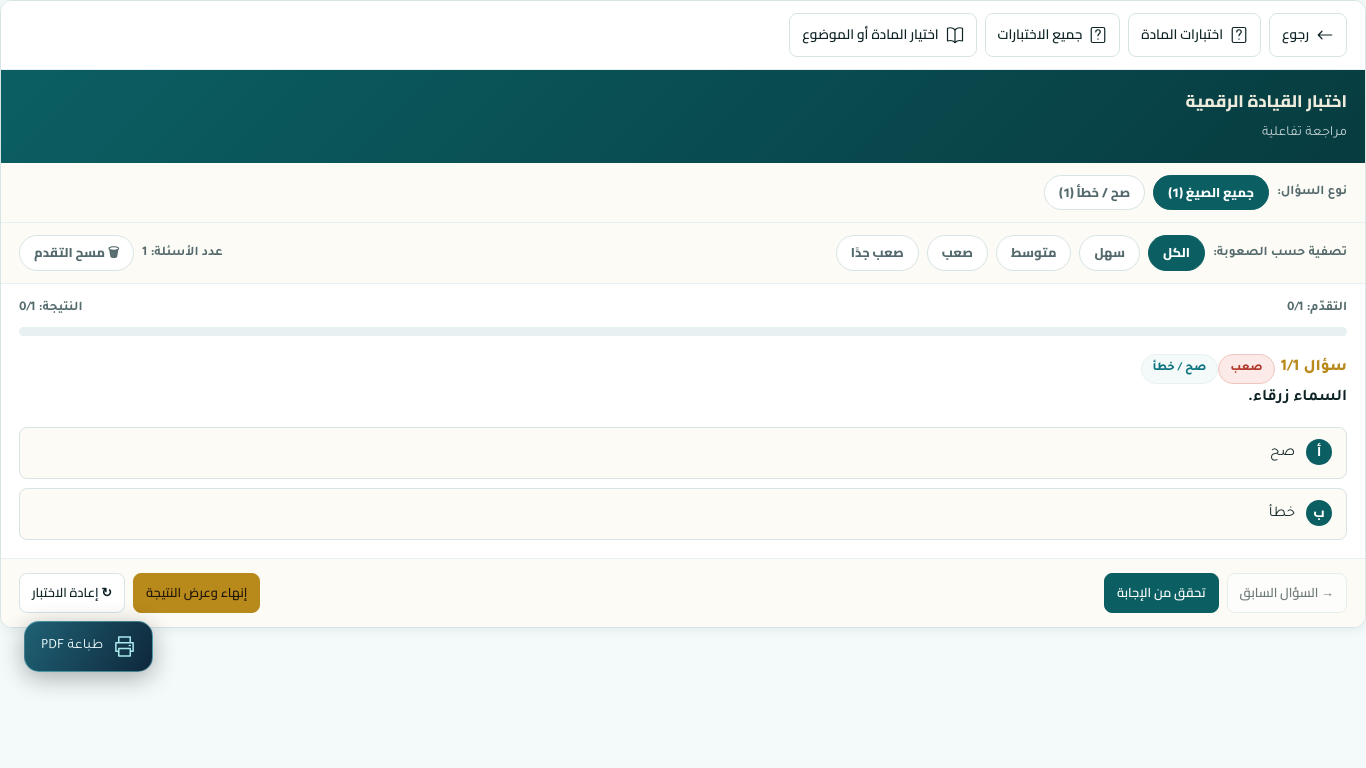
Test: Finquiz interaction › true/false uses the same explicit check and authoritative feedback
This screenshot has width=1366, height=768.
Click the button "أ صح": (1319, 452) 19,427 -> 1347,479
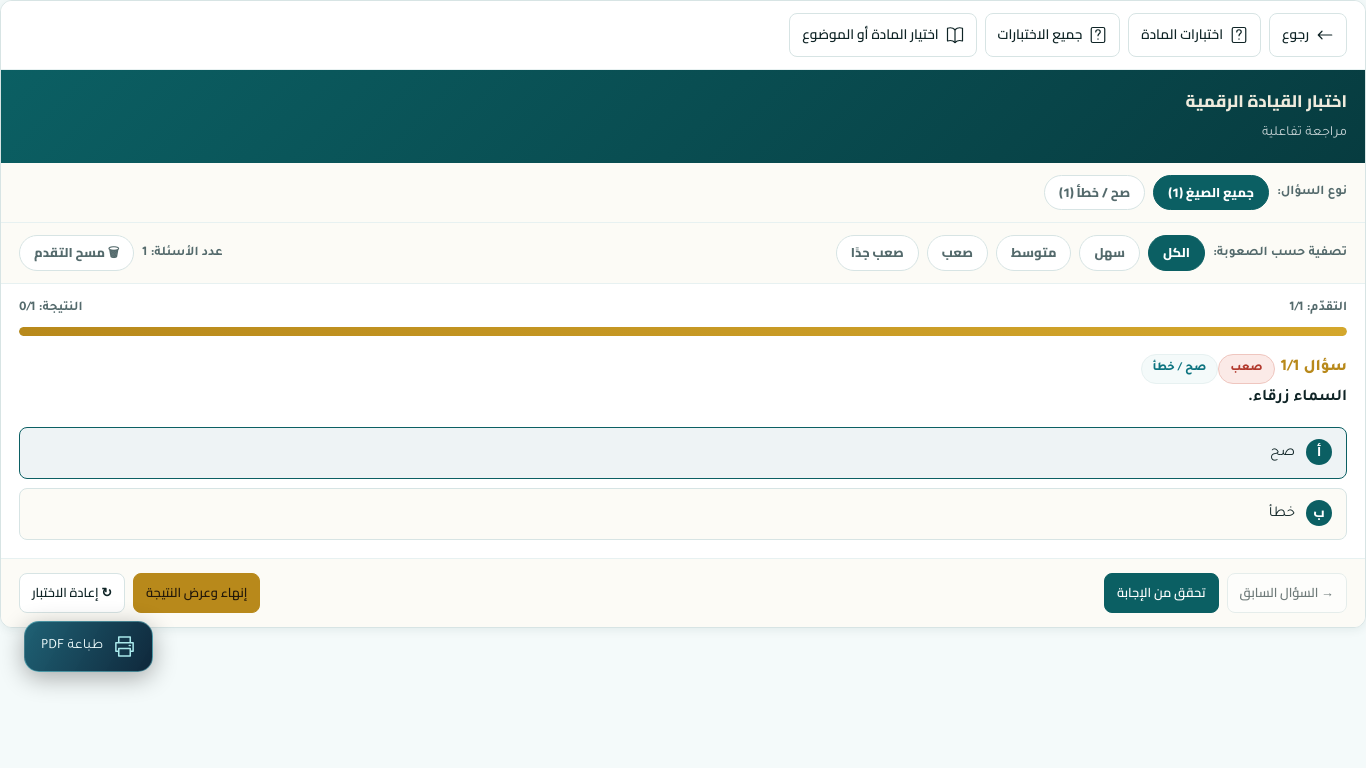
Click the button "تحقق من الإجابة": (1161, 593) 1104,573 -> 1219,613
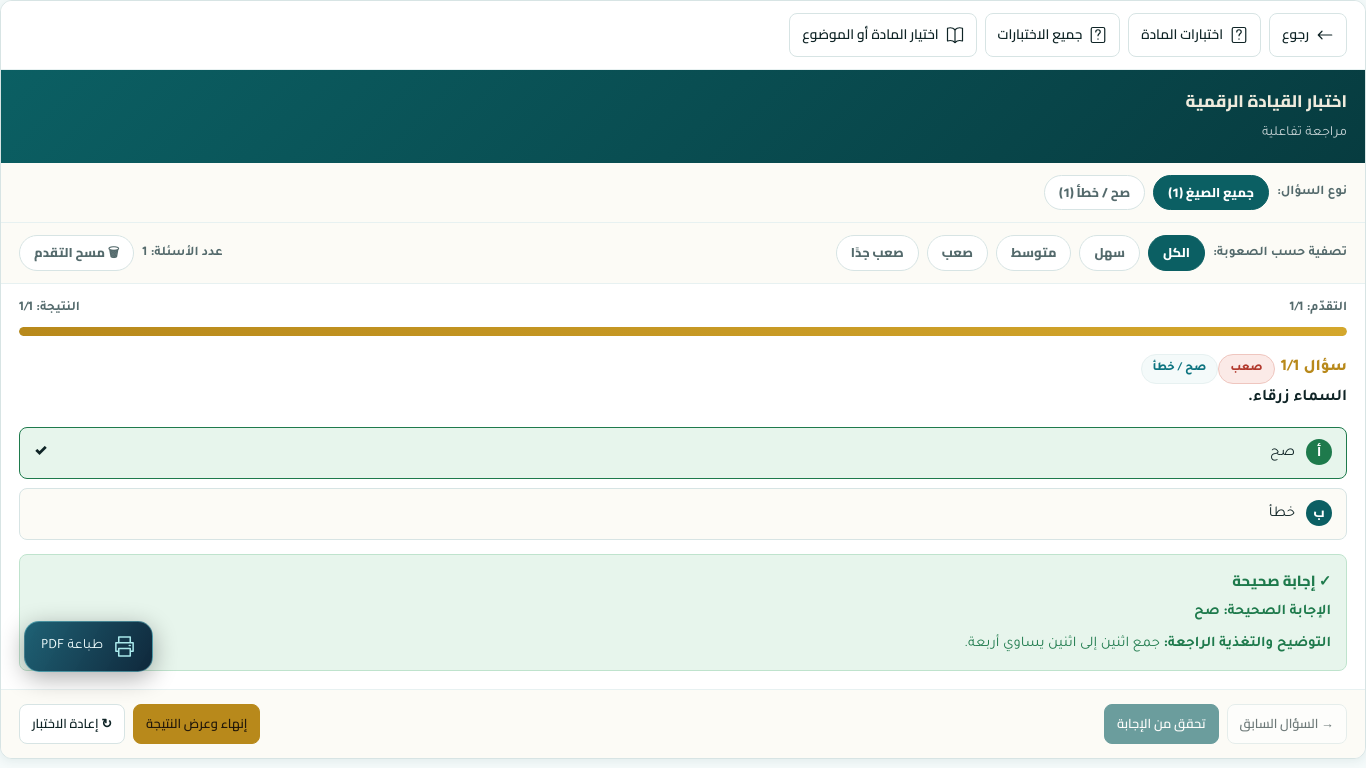
Now the text "✓ إجابة صحيحة" is shown, box 1232,567 -> 1331,594
